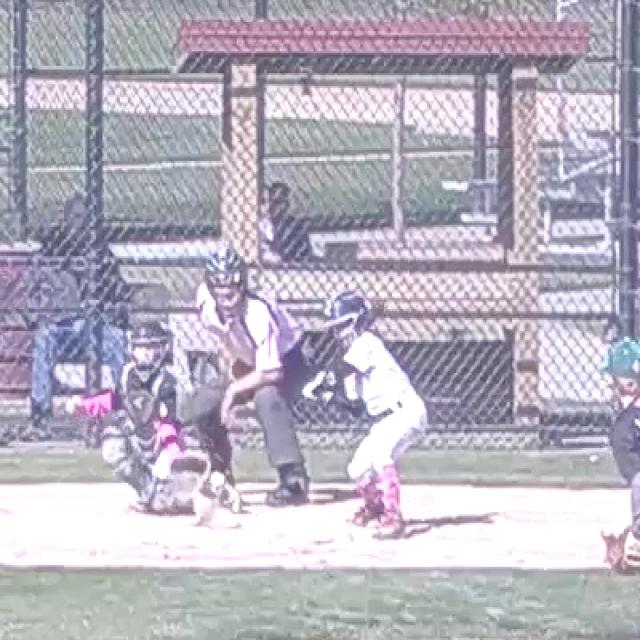baseball: (211, 472, 225, 486)
